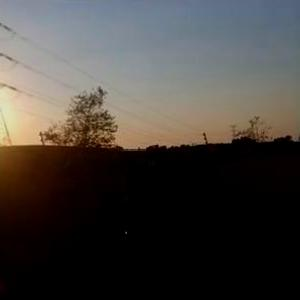follow: (114, 161, 173, 299)
